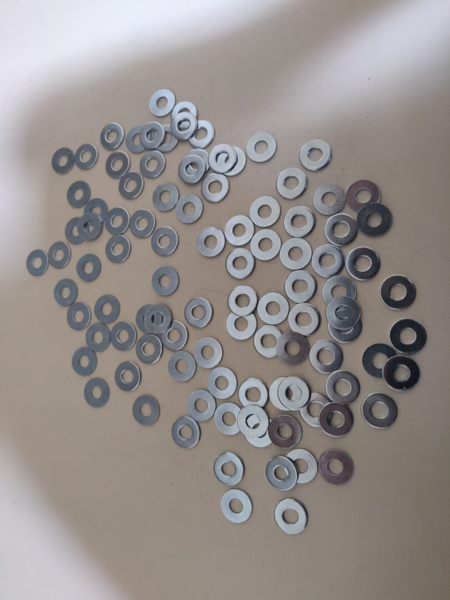circle: (390, 318, 428, 355), (383, 355, 421, 392), (362, 392, 398, 430), (318, 449, 355, 485), (328, 308, 365, 344), (380, 275, 417, 311), (300, 392, 335, 429), (275, 332, 311, 367), (322, 275, 359, 309), (326, 371, 361, 406), (346, 246, 381, 281), (309, 339, 344, 374), (275, 498, 309, 534), (326, 296, 362, 330), (278, 377, 312, 412), (268, 414, 303, 448), (285, 449, 319, 484), (347, 179, 382, 213), (363, 344, 398, 378), (319, 404, 355, 437), (358, 203, 394, 236), (311, 244, 345, 278), (221, 490, 254, 525), (313, 182, 348, 215), (270, 378, 304, 411), (285, 270, 318, 304), (325, 214, 359, 247), (214, 452, 246, 486), (266, 456, 298, 490), (299, 139, 333, 171), (226, 307, 258, 341), (253, 325, 285, 359), (276, 167, 309, 199), (224, 247, 256, 280), (289, 303, 321, 336), (281, 238, 314, 270), (284, 205, 316, 238), (214, 403, 245, 437), (238, 378, 270, 410), (239, 405, 270, 438), (227, 284, 258, 317), (258, 292, 289, 325), (167, 350, 198, 382), (247, 132, 278, 164), (251, 230, 283, 261), (184, 296, 214, 329), (159, 321, 190, 352), (250, 196, 281, 227), (208, 367, 238, 399), (194, 336, 224, 368), (151, 265, 181, 297), (171, 417, 200, 450), (246, 415, 275, 448), (225, 215, 255, 246), (187, 390, 216, 422), (202, 171, 230, 204), (217, 146, 247, 176), (197, 227, 226, 258), (114, 361, 142, 393), (132, 394, 160, 426), (136, 303, 164, 335), (152, 182, 181, 212), (145, 303, 173, 334), (176, 193, 204, 224), (187, 119, 216, 148), (152, 226, 180, 256), (130, 210, 158, 239), (153, 125, 181, 154), (209, 144, 237, 173), (171, 100, 198, 130), (140, 150, 167, 179), (171, 112, 198, 141), (179, 155, 206, 184), (84, 378, 110, 408), (94, 295, 120, 325), (137, 335, 163, 365), (105, 235, 132, 263), (86, 324, 112, 353), (111, 321, 137, 350), (150, 89, 176, 118), (185, 148, 211, 177), (126, 125, 151, 155), (105, 151, 131, 179), (105, 207, 131, 235), (72, 348, 97, 377), (140, 121, 165, 150), (119, 171, 144, 199), (76, 254, 101, 282), (67, 303, 92, 331), (51, 148, 75, 177), (77, 215, 103, 241), (99, 124, 124, 150), (67, 181, 91, 208), (84, 199, 108, 225), (27, 250, 50, 277), (48, 242, 71, 269), (75, 144, 98, 171), (55, 279, 77, 307), (65, 218, 87, 245)
